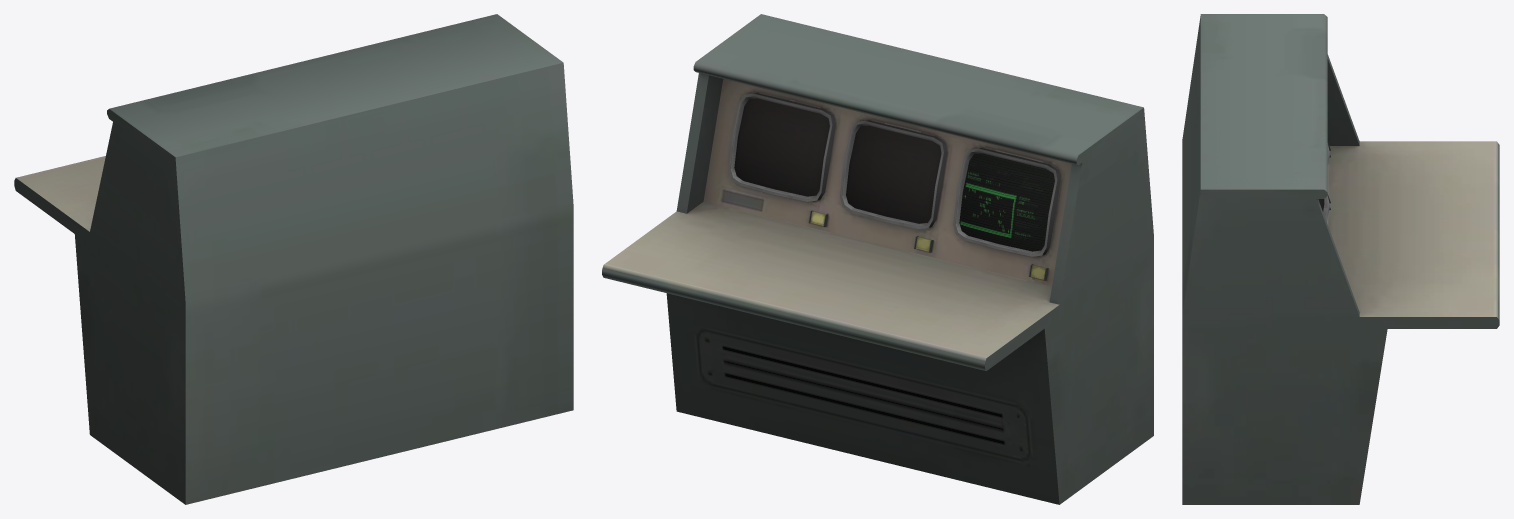
3 renders of one model, left to right at view 1: azimuth 30°, elevation 25°; view 2: azimuth 150°, elevation 25°; view 3: azimuth 270°, elevation 25°, orthographic. The views are drawn at different scales.
Parts seen in each view (by area): view 1: body0_model0_lod0_mesh0; view 2: body0_model0_lod0_mesh0, body0_model0_lod0_mesh1; view 3: body0_model0_lod0_mesh0.
Boxes of the visible parts, x1,y1,x2,y2 form: body0_model0_lod0_mesh0: (14, 14, 573, 504); body0_model0_lod0_mesh0: (602, 14, 1153, 504); body0_model0_lod0_mesh1: (959, 153, 1054, 251); body0_model0_lod0_mesh0: (1182, 14, 1499, 504).
Size of the model in its own units: 80 by 67.01 by 61.16.
Materials: 2 (2 with a texture image).
